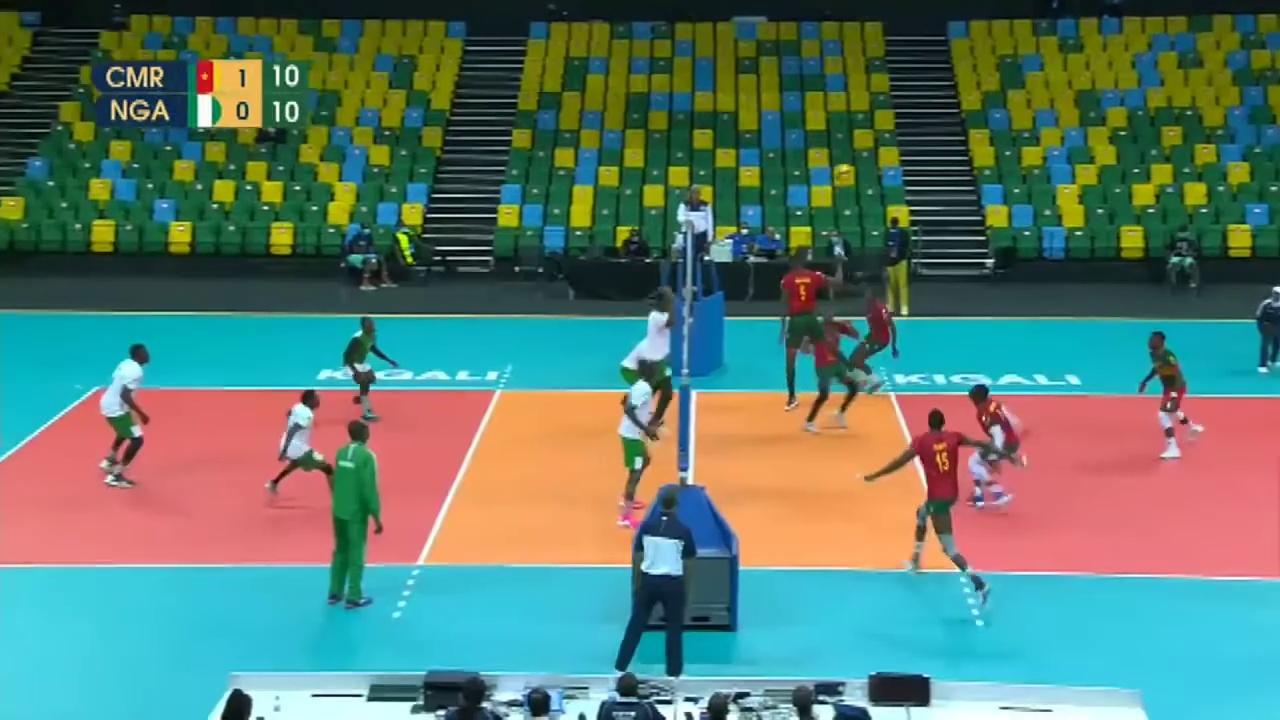player: (864, 412, 991, 606), (773, 245, 850, 400), (959, 380, 1032, 509), (833, 281, 905, 399), (1139, 332, 1200, 459), (96, 347, 150, 485), (612, 364, 659, 519), (803, 303, 859, 433), (619, 323, 681, 434), (267, 394, 328, 503), (336, 311, 393, 424), (645, 288, 684, 438)
refree: (620, 486, 695, 674), (667, 186, 714, 289), (1255, 285, 1278, 378)
